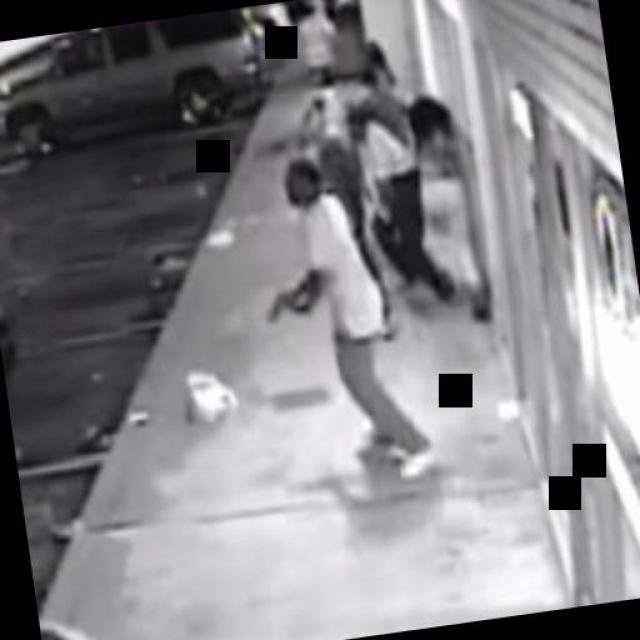gun: (260, 284, 295, 322)
